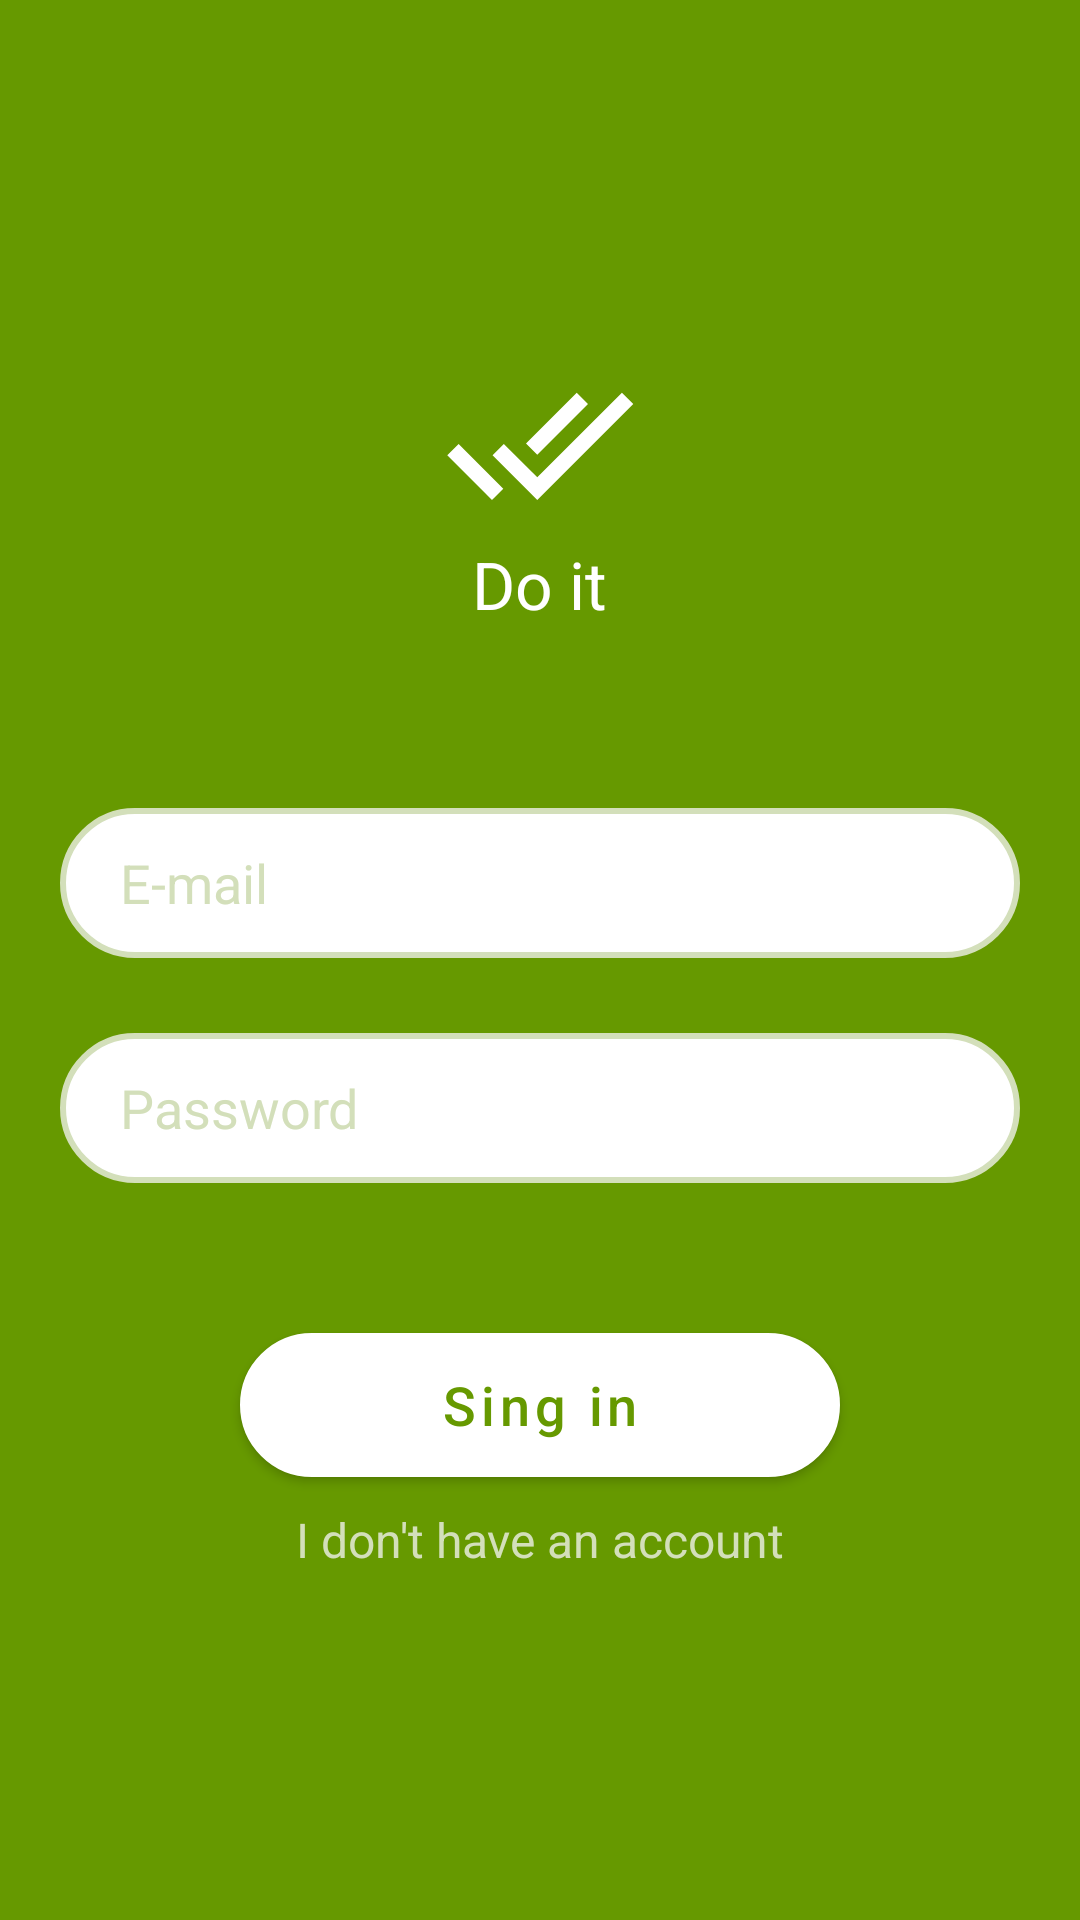

Screen size 1080px x 1920px. Icon name, then its center in pixels as [x,y]:
done all: [540,446]
